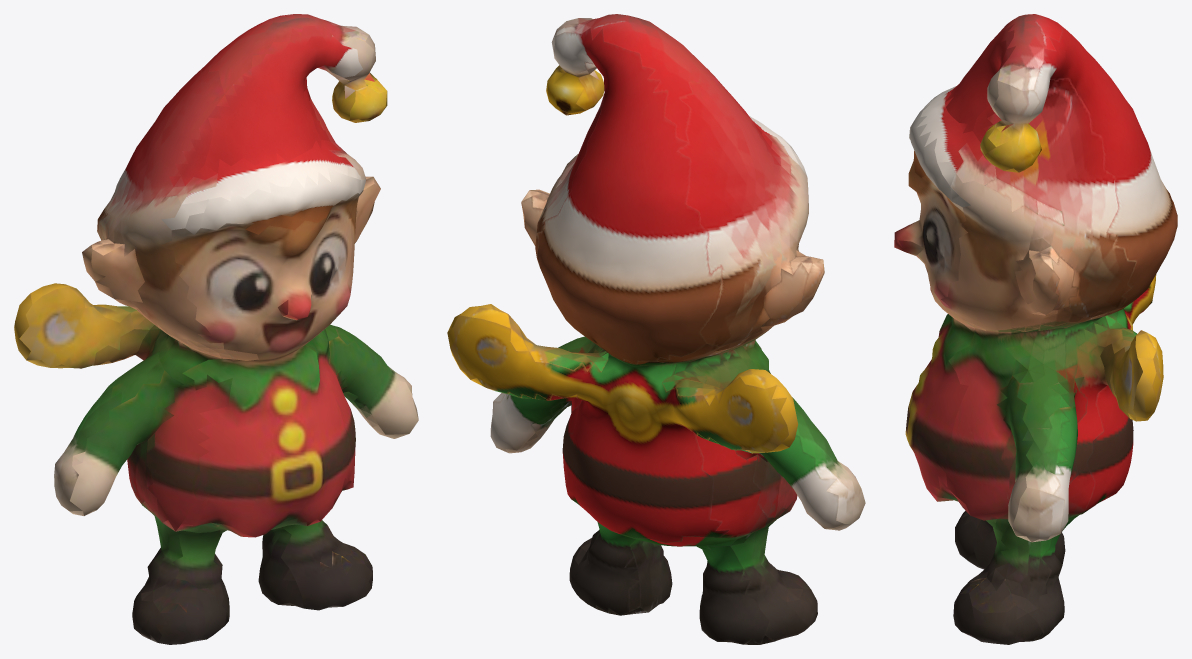
The model's file is toy-elf-toon.glb.
3 views of the same model, side by side, from view 1: azimuth 30°, elevation 25°; view 2: azimuth 150°, elevation 25°; view 3: azimuth 270°, elevation 25° (orthographic). The views are drawn at different scales.
Visible parts, largest first — view 1: world; view 2: world; view 3: world.
Boxes of the visible parts, x1,y1,x2,y2 form: world: (14,14,418,644); world: (447,14,865,644); world: (894,14,1177,644).
Bounding box in the file's own units: 0.6003 × 0.9352 × 0.4006.
1 material, 1 textured.
